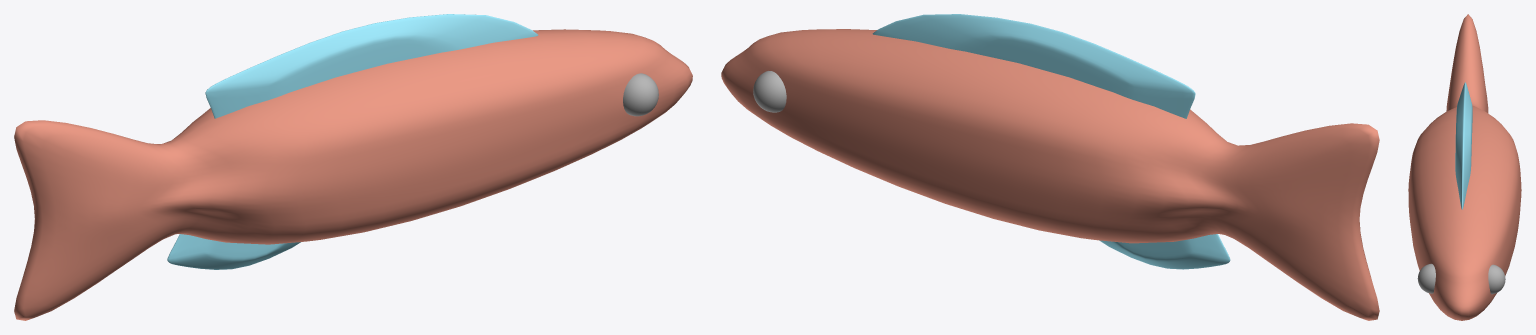
Rendered from Fish.fbx.
The picture shows the model from 3 angles, left to right: view 1: azimuth 30°, elevation 25°; view 2: azimuth 150°, elevation 25°; view 3: azimuth 270°, elevation 25°; orthographic projection. The views are drawn at different scales.
Visible parts, largest first — view 1: poisson, dorsal, dorsal.001, Sphere.001; view 2: poisson, dorsal, dorsal.001, Sphere.002; view 3: poisson, dorsal, Sphere.001, Sphere.002.
Boxes of the visible parts, x1,y1,x2,y2 form: poisson: [14, 29, 692, 320]; dorsal: [205, 14, 538, 118]; dorsal.001: [167, 234, 300, 269]; Sphere.001: [623, 73, 658, 116]; poisson: [721, 29, 1379, 320]; dorsal: [872, 14, 1195, 118]; dorsal.001: [1099, 234, 1230, 269]; Sphere.002: [753, 71, 786, 112]; poisson: [1408, 14, 1521, 320]; dorsal: [1455, 82, 1472, 209]; Sphere.001: [1417, 263, 1435, 293]; Sphere.002: [1488, 264, 1505, 294].
Bounding box in the file's own units: 796 × 244 × 168.
